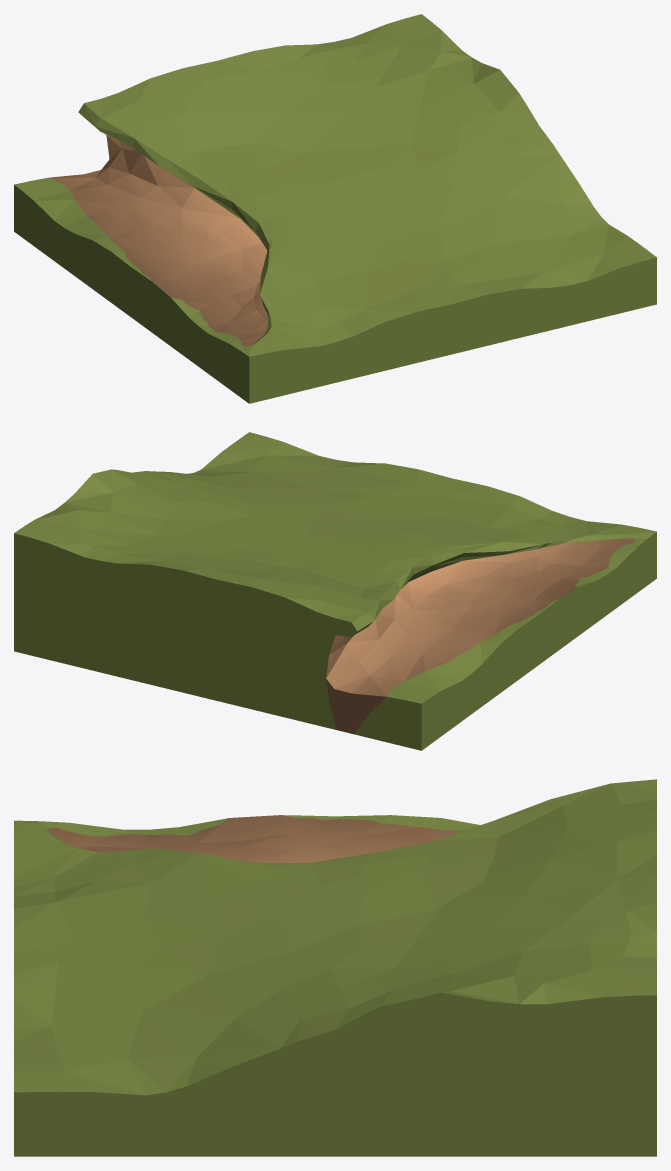
Rendered from Terrian_CliffGrass_Flat_End-01.fbx.
3 views of the same model, one above another, from view 1: azimuth 30°, elevation 25°; view 2: azimuth 150°, elevation 25°; view 3: azimuth 270°, elevation 25° (orthographic). The views are drawn at different scales.
Parts seen in each view (by area): view 1: Terrian_CliffGrass_Flat_End-01; view 2: Terrian_CliffGrass_Flat_End-01; view 3: Terrian_CliffGrass_Flat_End-01.
Boxes of the visible parts, x1,y1,x2,y2 form: Terrian_CliffGrass_Flat_End-01: (14, 14, 656, 403); Terrian_CliffGrass_Flat_End-01: (14, 432, 656, 750); Terrian_CliffGrass_Flat_End-01: (14, 779, 656, 1156).
Size of the model in its own units: 3600 by 1031 by 3600.
Materials: 1 (1 with a texture image).
